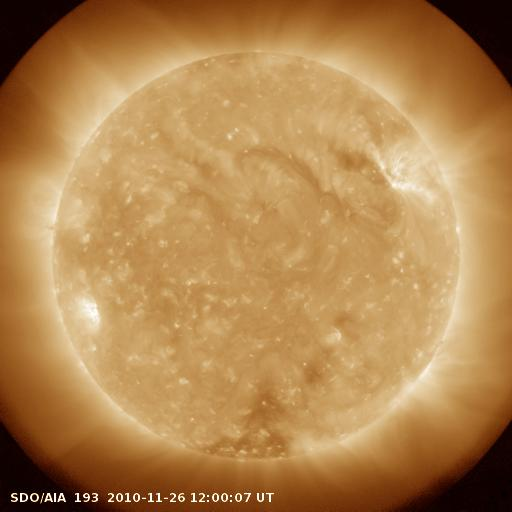coronal_hole: (192, 391, 295, 466), (332, 141, 373, 174)
